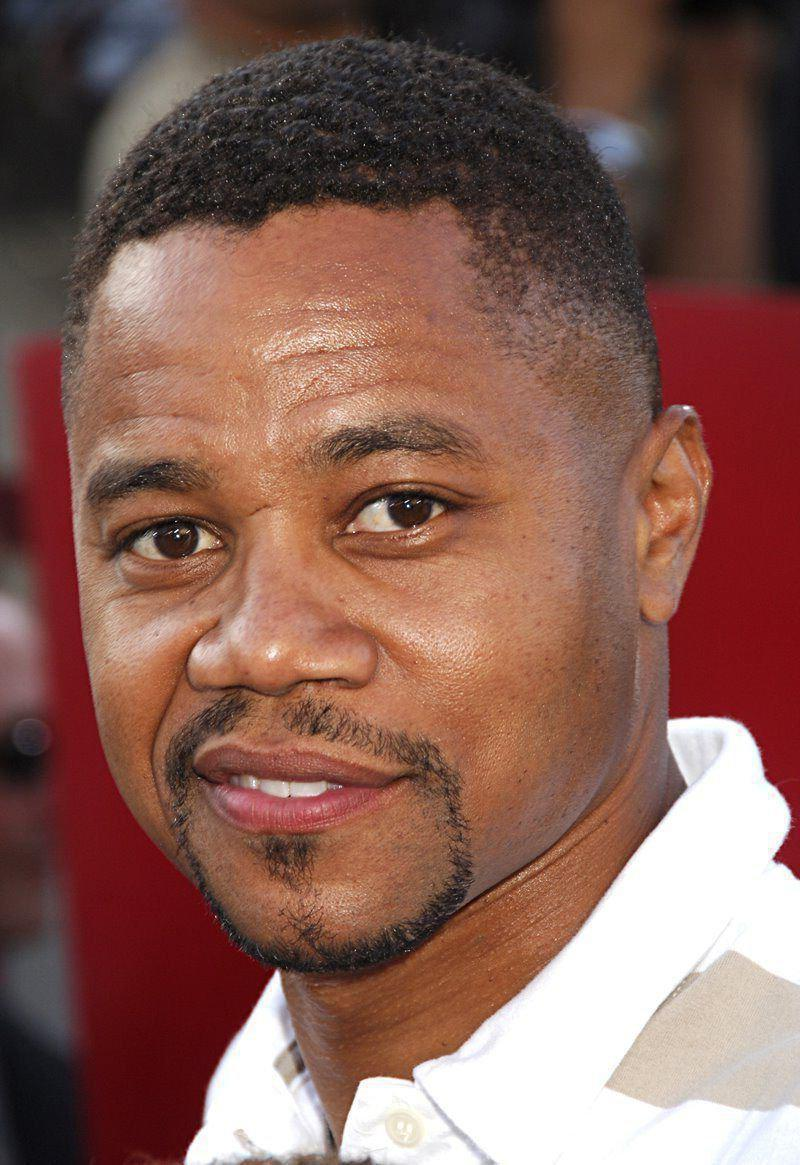Sober: (108, 241, 602, 935)
